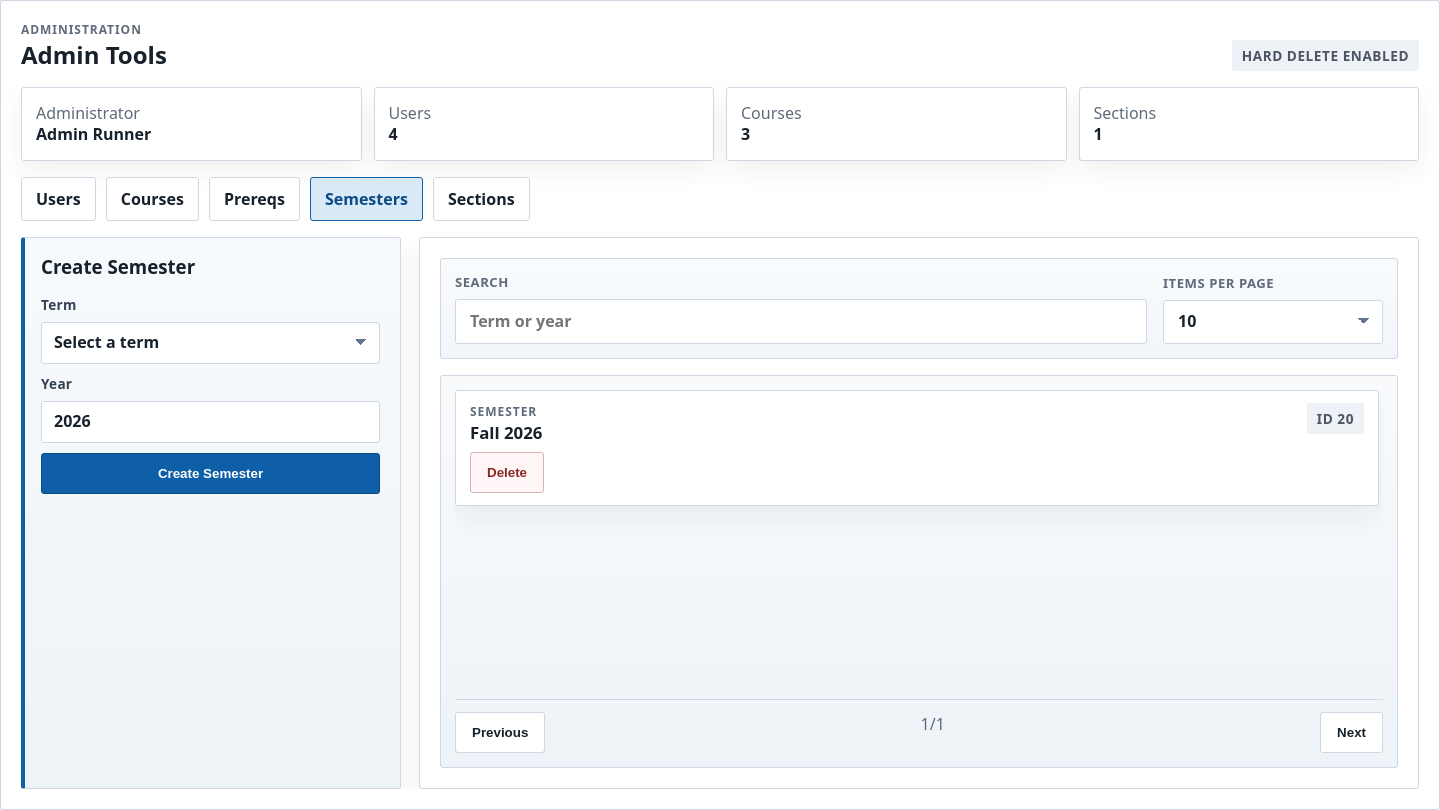
Scenario: AdminConsolePage › shows dependency-blocked delete errors for semesters
Expected: the heading "Create Semester" is shown, [41, 254, 195, 279]
Click the button "Delete": click(507, 472) [470, 452, 544, 493]
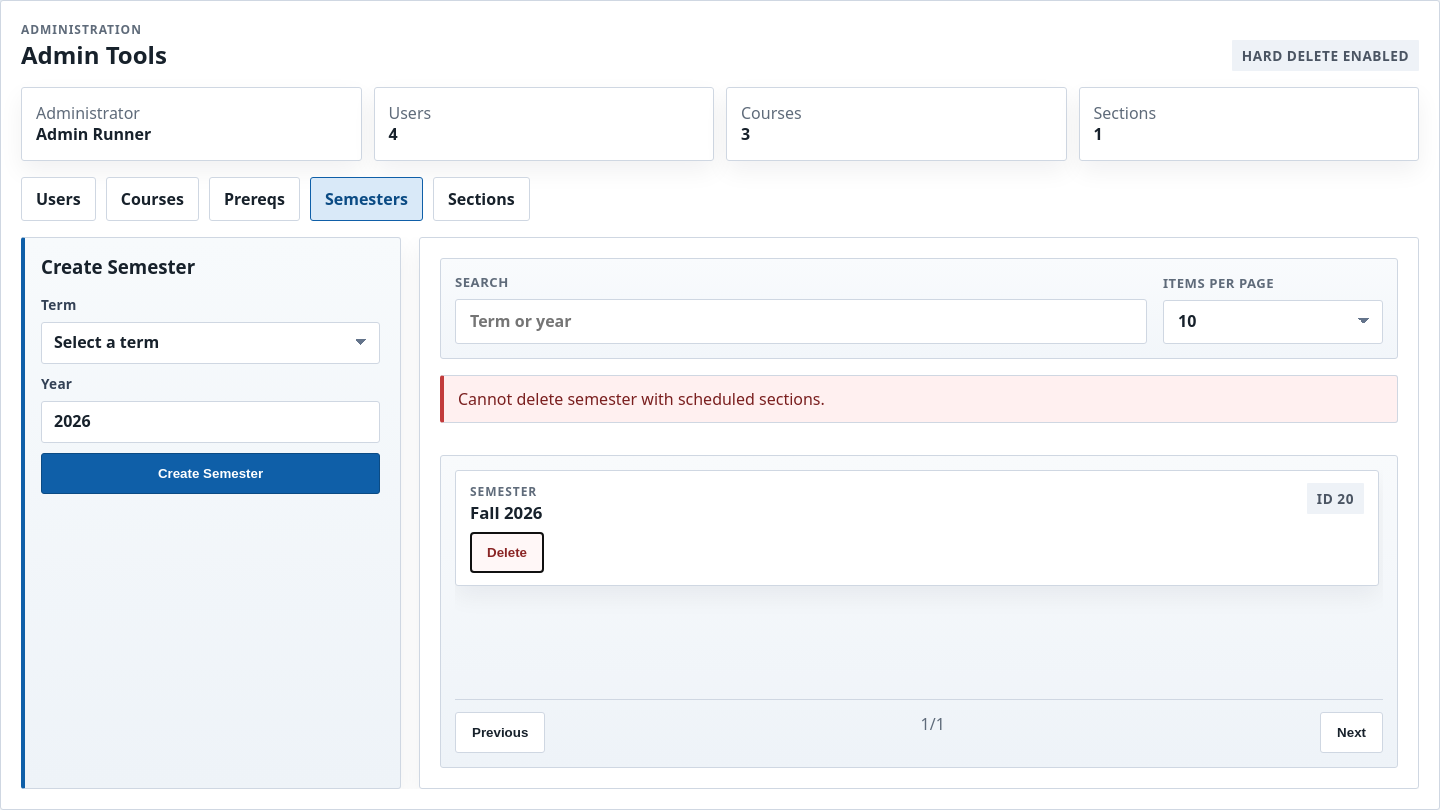
Expected: the text "Cannot delete semester with scheduled sections." is shown, [440, 375, 1398, 423]
